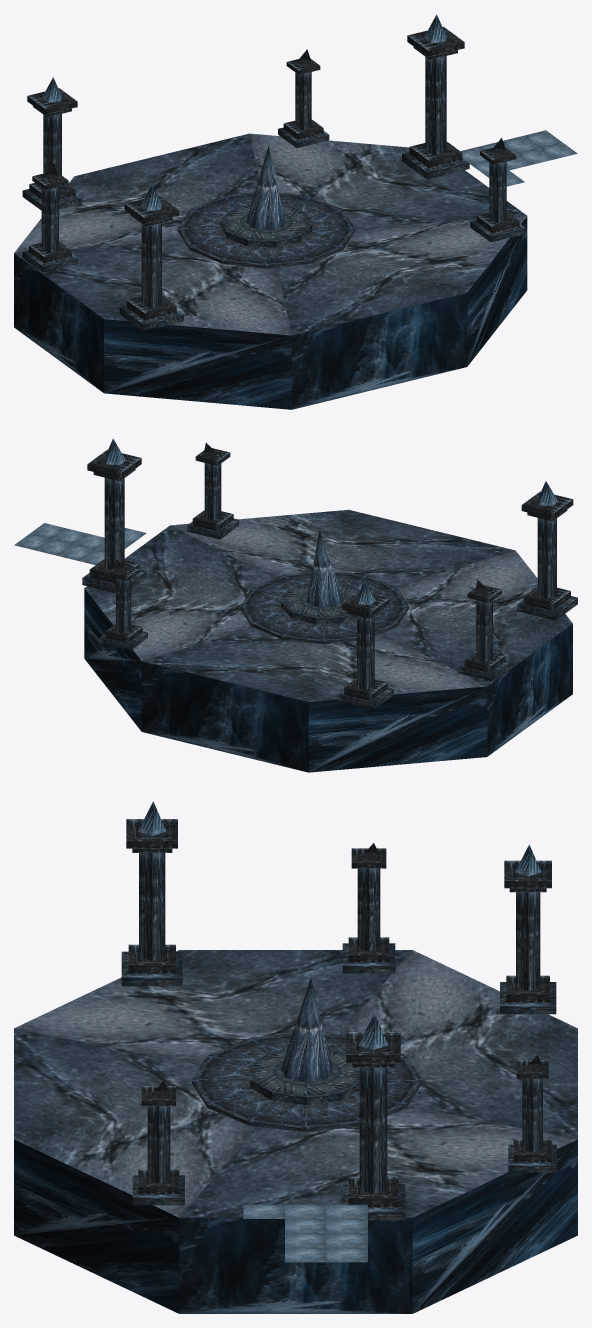
The model's file is citadel_arena_0.obj.
3 renders of one model, top to bottom at view 1: azimuth 30°, elevation 25°; view 2: azimuth 150°, elevation 25°; view 3: azimuth 270°, elevation 25°, orthographic. The views are drawn at different scales.
Parts seen in each view (by area): view 1: citadel_arena_0; view 2: citadel_arena_0; view 3: citadel_arena_0.
Boxes of the visible parts, <box> form: citadel_arena_0: <box>14,14,577,409</box>; citadel_arena_0: <box>14,438,577,772</box>; citadel_arena_0: <box>14,801,577,1313</box>.
Bounding box in the file's own units: 34.82 × 14.52 × 25.5.
1 material, 1 textured.
